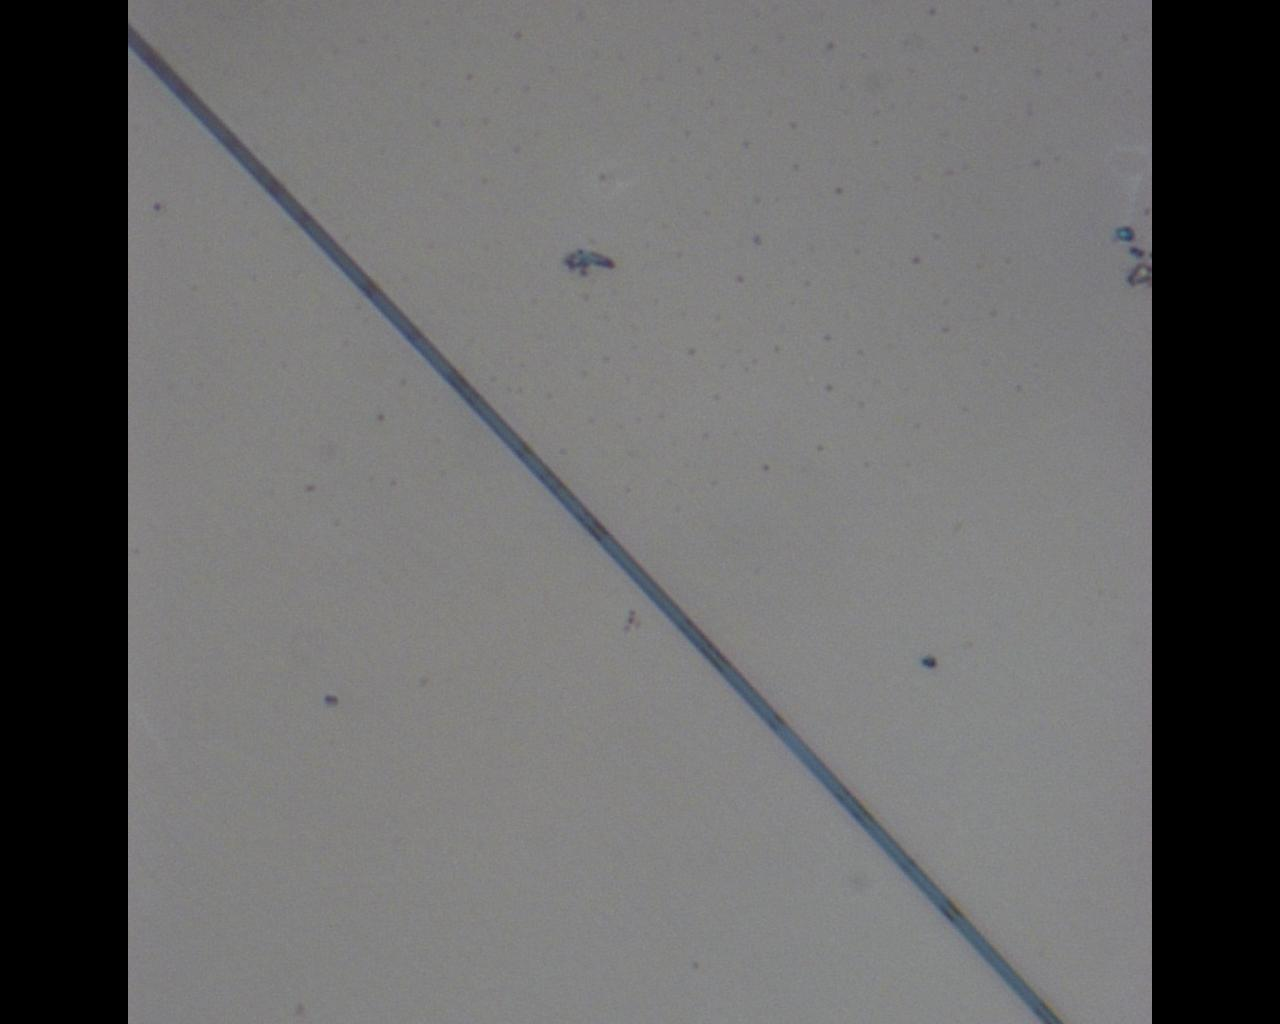fiber: (127, 23, 1065, 1024)
